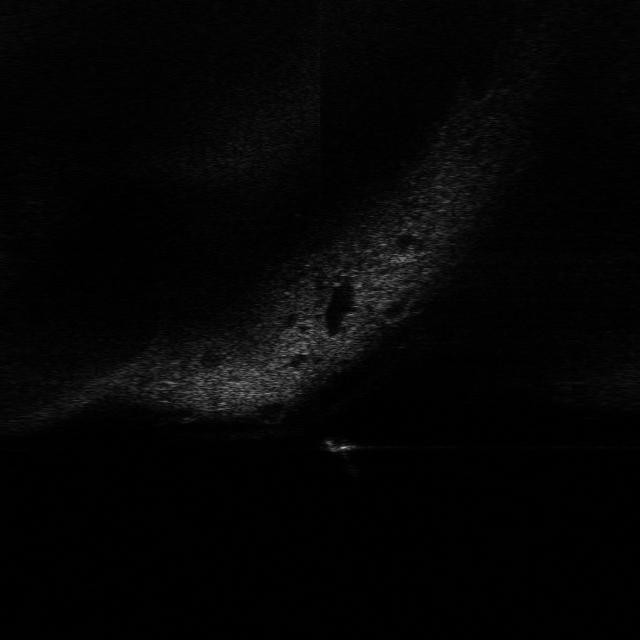cube: (316, 432, 366, 458)
